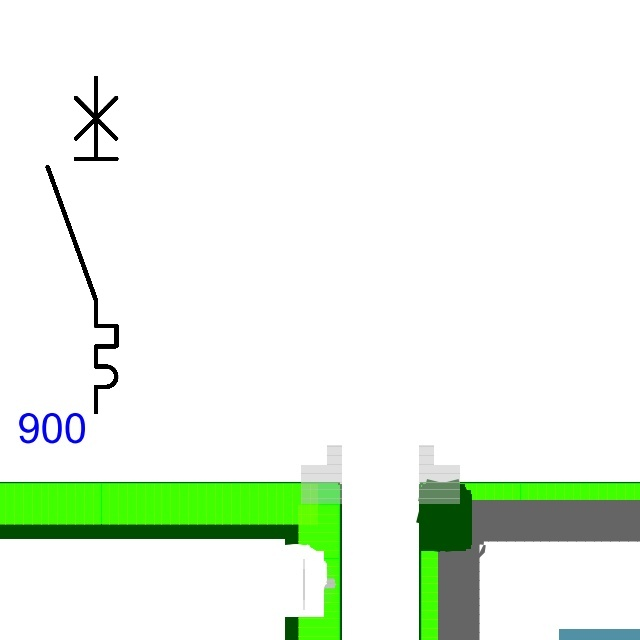interruptor_termomagnetico: (39, 69, 125, 421)
